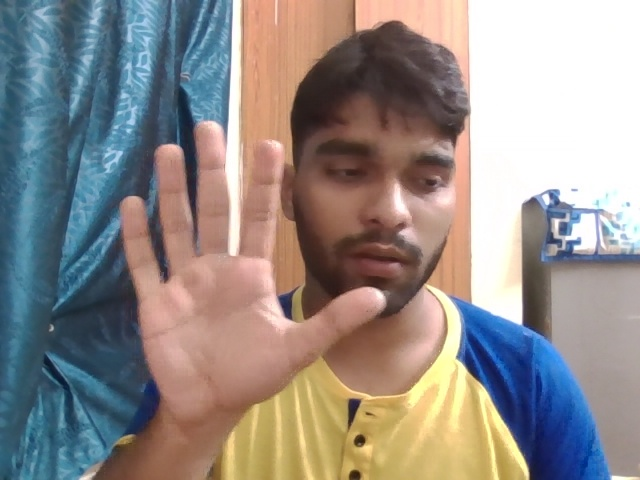Hello: (114, 116, 388, 415)
